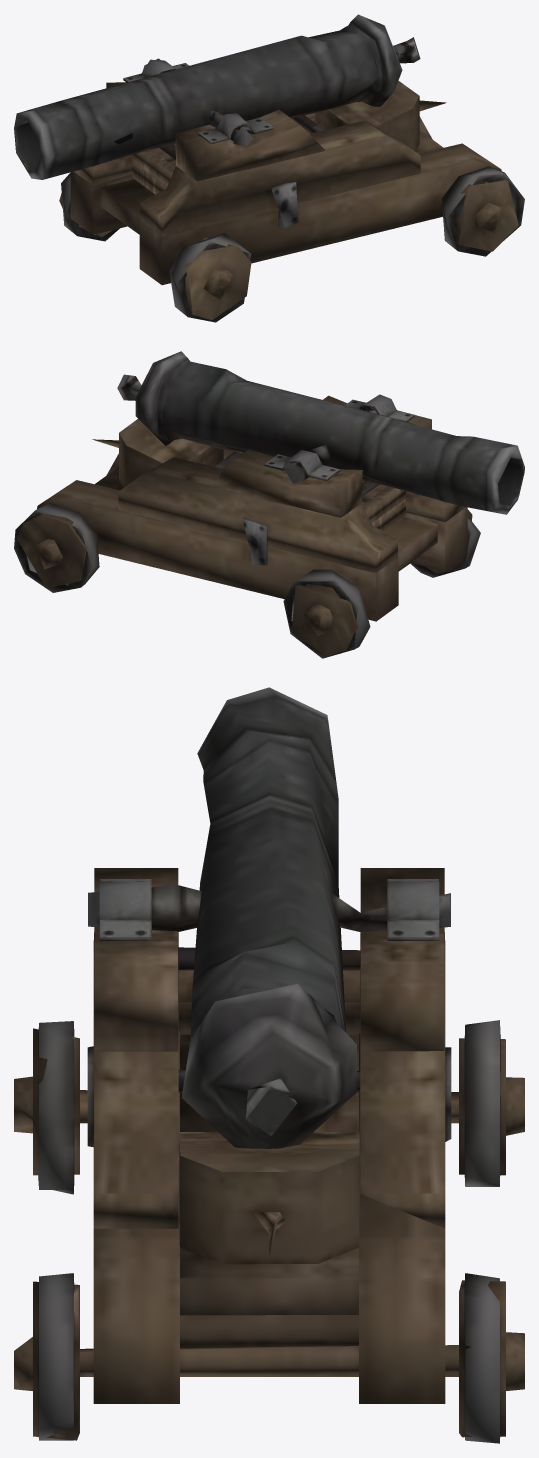
The model's file is cannon-b.lod1.glb.
3 renders of one model, top to bottom at view 1: azimuth 30°, elevation 25°; view 2: azimuth 150°, elevation 25°; view 3: azimuth 270°, elevation 25°, orthographic. The views are drawn at different scales.
Parts seen in each view (by area): view 1: Cylinder.006_Material_0; view 2: Cylinder.006_Material_0; view 3: Cylinder.006_Material_0.
Part boxes in pixels (x1,y1,x2,y2): Cylinder.006_Material_0: [14, 14, 524, 322]; Cylinder.006_Material_0: [14, 351, 524, 658]; Cylinder.006_Material_0: [14, 687, 524, 1443].
Size of the model in its own units: 2.6 by 1.18 by 1.36.
Materials: 1 (1 with a texture image).
